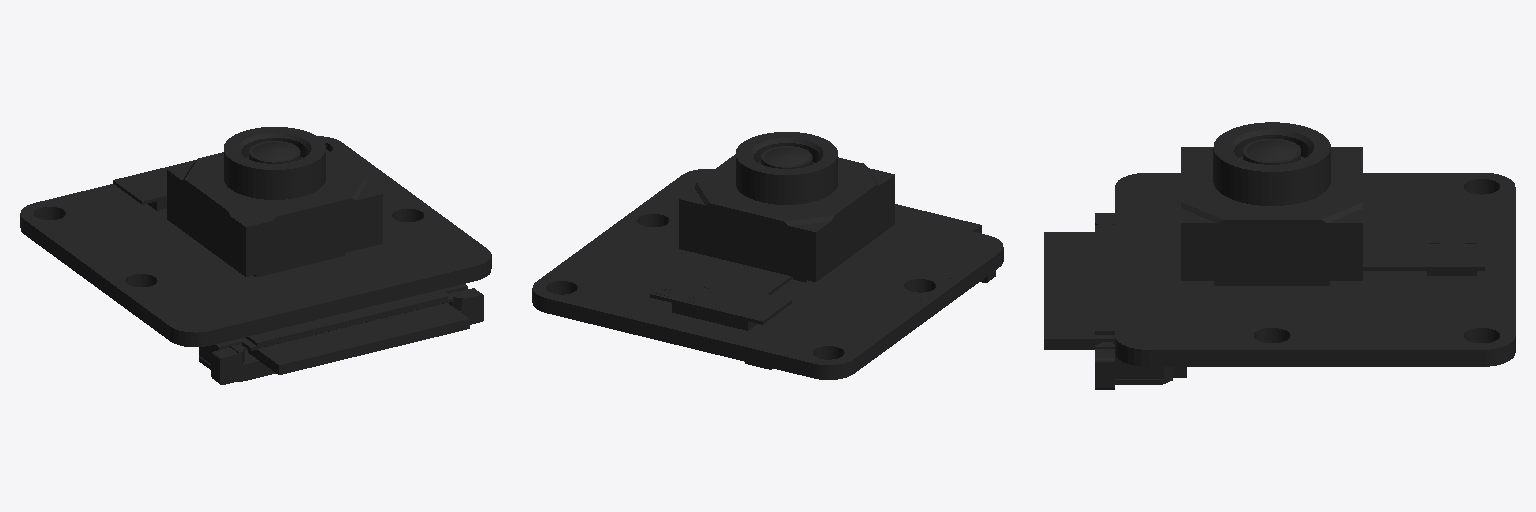
robot.urdf — pi_camerav3:
<?xml version="1.0"?>
<robot name="pi_camerav3">

  <link name="pi_camerav3_link">
  
    <visual>
      <origin xyz="0 0 0" rpy="0 0 0"/>
      <geometry>
        <mesh filename="package://Pi CameraV3/meshes/Pi_CameraV3.stl" scale="0.001 0.001 0.001"/>
      </geometry>
      <material name="black">
        <color rgba="0.2 0.2 0.2 1.0"/>
      </material>
    </visual>

    <collision>
      <origin xyz="0 0 0" rpy="0 0 0"/>
      <geometry>
        <mesh filename="package://Pi CameraV3/meshes/Pi_CameraV3.stl" scale="0.001 0.001 0.001"/>
      </geometry>
    </collision>

    <inertial>
      <mass value="0.004"/>
      <origin xyz="0 0 0" rpy="0 0 0"/>
      <inertia
        ixx="0.00001" ixy="0.0" ixz="0.0"
        iyy="0.00001" iyz="0.0"
        izz="0.00001"/>
    </inertial>
    
  </link>

</robot>

--- Facts derived from the render (not from the file) ---
The picture shows the robot from 3 angles, left to right: view 1: azimuth 30°, elevation 25°; view 2: azimuth 150°, elevation 25°; view 3: azimuth 270°, elevation 25°; orthographic projection.
Robot: pi_camerav3 — 1 links, 0 joints (none); root link pi_camerav3_link; default pose: all joints at 0.
Visible links, largest first — view 1: pi_camerav3_link; view 2: pi_camerav3_link; view 3: pi_camerav3_link.
Link boxes in pixels (x1,y1,x2,y2): pi_camerav3_link: (20,127,491,384); pi_camerav3_link: (532,132,1003,379); pi_camerav3_link: (1044,122,1515,389).
Bounding box of the posed robot: 0.025 × 0.0281 × 0.0113 m (x, y, z).
1 mesh visuals loaded from 1 distinct referenced files (1 binary STL).